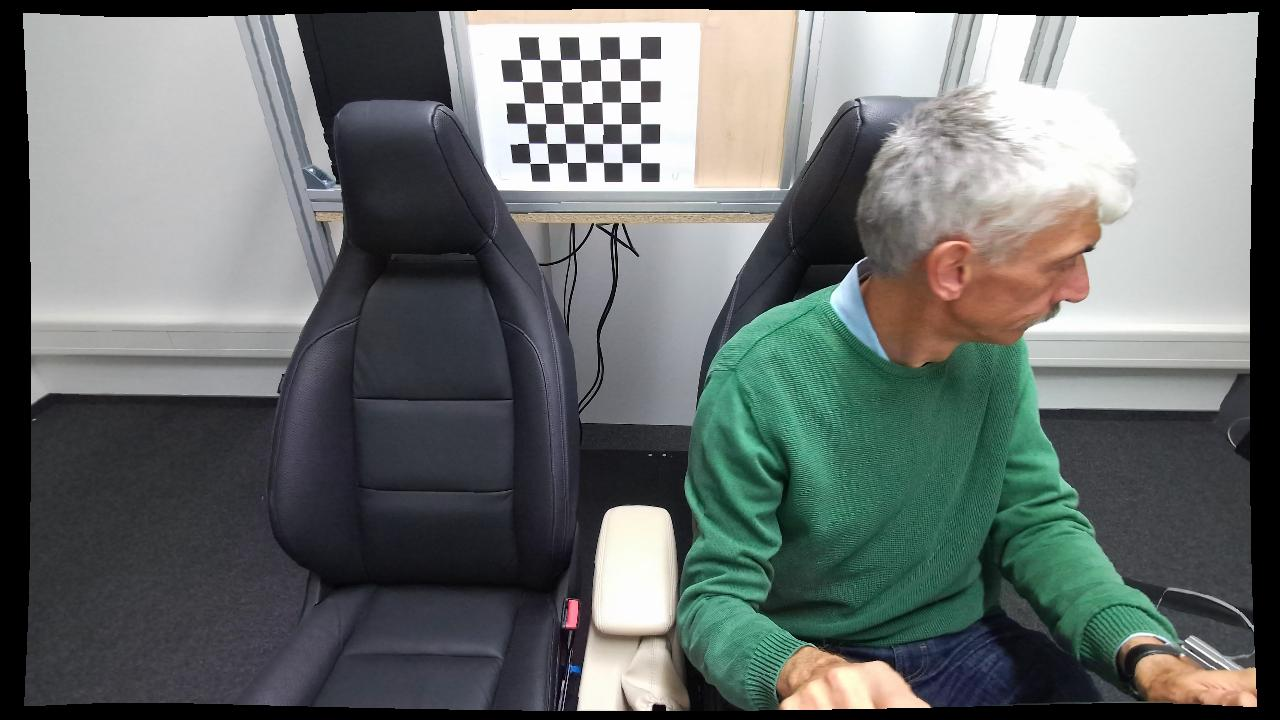Distracted: (675, 80, 1152, 718)
